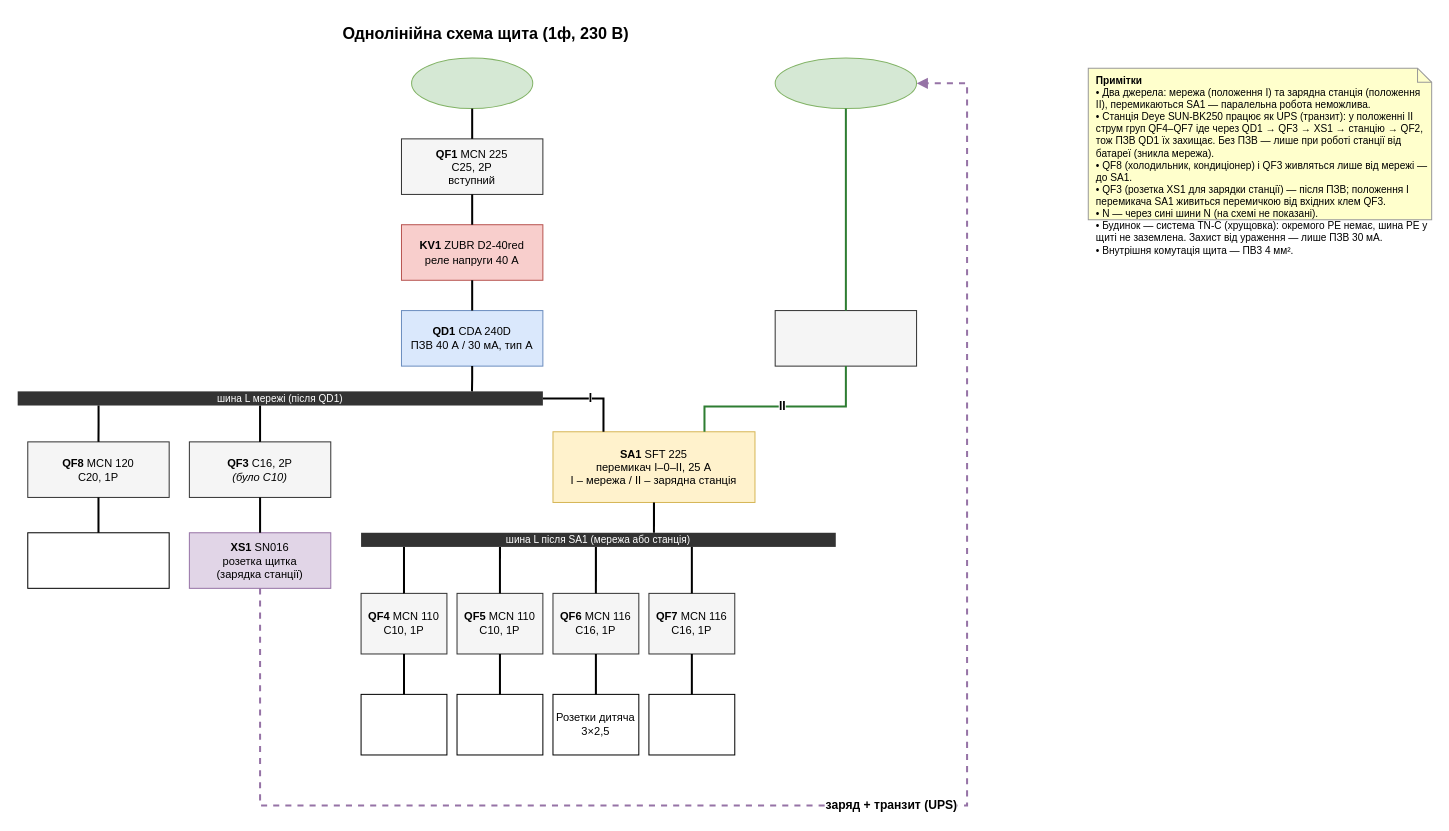
Image size: 1449x831. Some labels were removed from this diagram. The centre of each missing label's shape, as x and y in pixels:
"QF2 MBN 210 B10, 2P ввід від станції" goes at pixel 845 338.
"Зарядна станція (вихід ~230 В)" goes at pixel 845 83.
"Мережа ~230 В, L+N" goes at pixel 472 83.
"Розетки зала 3×2,5" goes at pixel 691 724.
"Світло дитяча 3×1,5" goes at pixel 403 724.
"Світло зала 3×1,5" goes at pixel 499 724.
"Холодильник (кухня) Кондиціонер (зала) 3×2,5, лише від мережі" goes at pixel 98 560.
